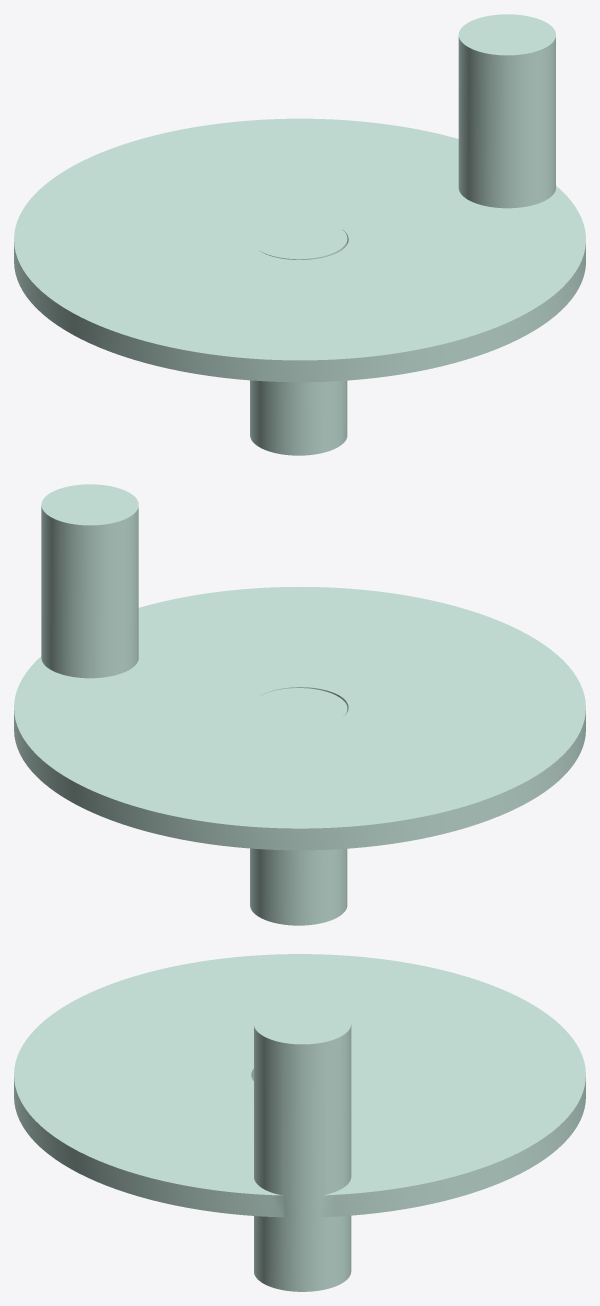
The picture shows the model from 3 angles, top to bottom: view 1: azimuth 30°, elevation 25°; view 2: azimuth 150°, elevation 25°; view 3: azimuth 270°, elevation 25°; orthographic projection.
Parts seen in each view (by area): view 1: Renderer Node; view 2: Renderer Node; view 3: Renderer Node.
Part boxes in pixels (bbox=[...]): Renderer Node: bbox=[14, 14, 585, 455]; Renderer Node: bbox=[14, 484, 585, 925]; Renderer Node: bbox=[14, 954, 585, 1291].
Size of the model in its own units: 1.49 by 1 by 1.48.
